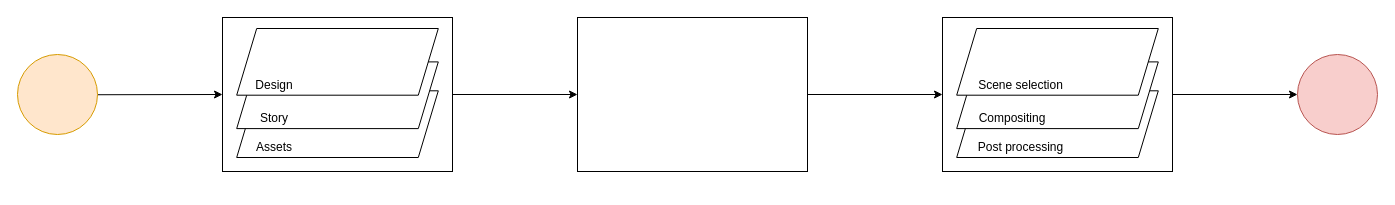
This 1395x205 diagram has some shape labels left out. The shapes that lost their labels are listed below. From the top down, each one's centre as x and y in pixels, then its label:
At point (57, 94): "Movie idea".
At point (692, 94): "Shooting".
At point (1337, 94): "Movie made".
